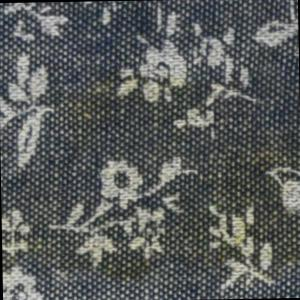Oil Stain: (1, 68, 300, 288)
